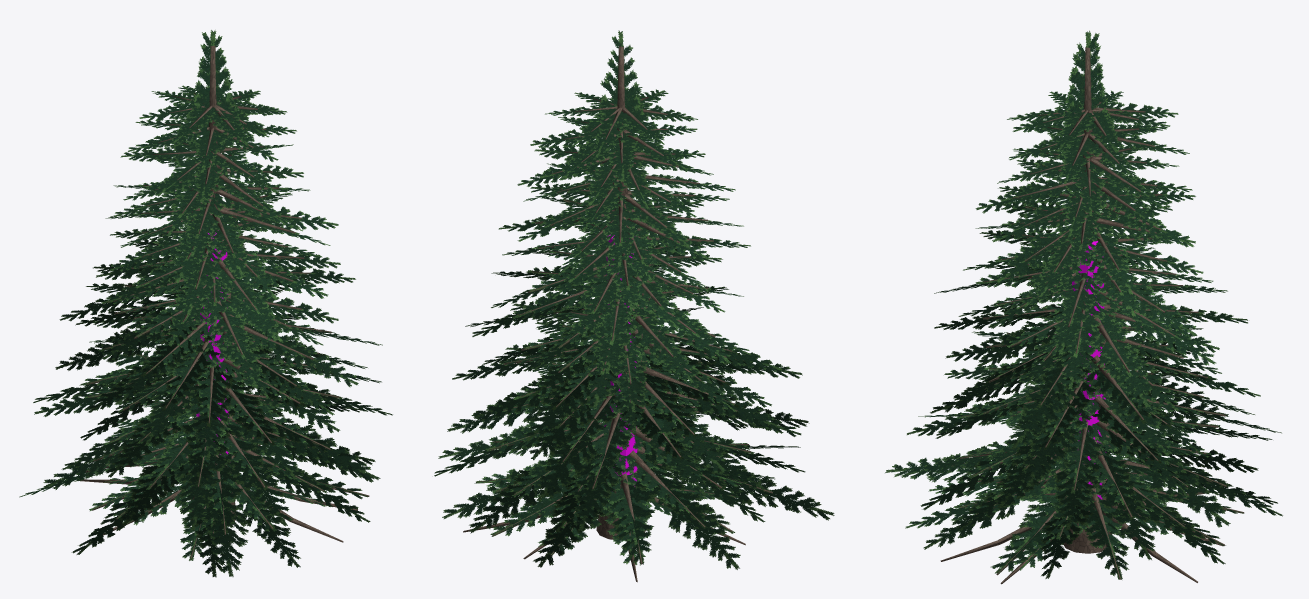
Rendered from EN_Tree_Spruce_Young.fbx.
3 renders of one model, left to right at view 1: azimuth 30°, elevation 25°; view 2: azimuth 150°, elevation 25°; view 3: azimuth 270°, elevation 25°, orthographic. The views are drawn at different scales.
Visible parts, largest first — view 1: EN_Tree_Spruce_Young_LOD0; view 2: EN_Tree_Spruce_Young_LOD0; view 3: EN_Tree_Spruce_Young_LOD0, COL_Trunk.
Boxes of the visible parts, <box> form: EN_Tree_Spruce_Young_LOD0: <box>19,30,392,577</box>; EN_Tree_Spruce_Young_LOD0: <box>434,30,834,582</box>; EN_Tree_Spruce_Young_LOD0: <box>885,30,1282,584</box>; COL_Trunk: <box>1072,241,1106,499</box>.
Size of what is drawn, in the model's own units: 2.37 by 3.25 by 2.44.
